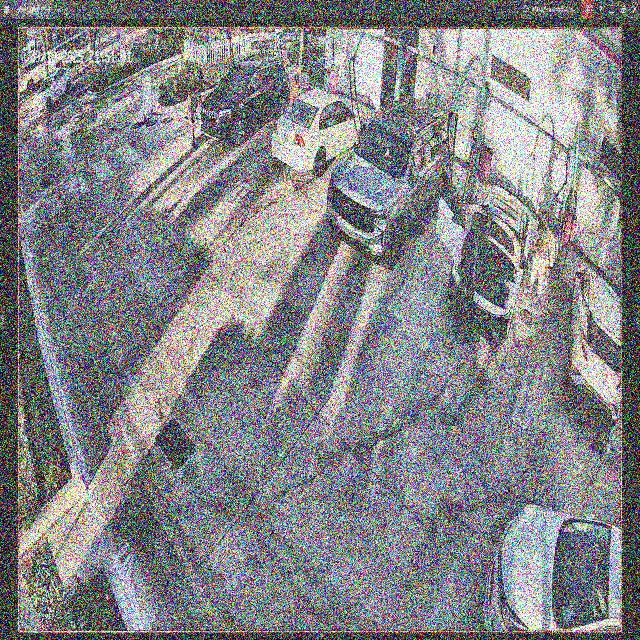Car: (328, 99, 453, 269), (438, 171, 533, 342), (271, 90, 367, 177), (200, 60, 291, 142)
